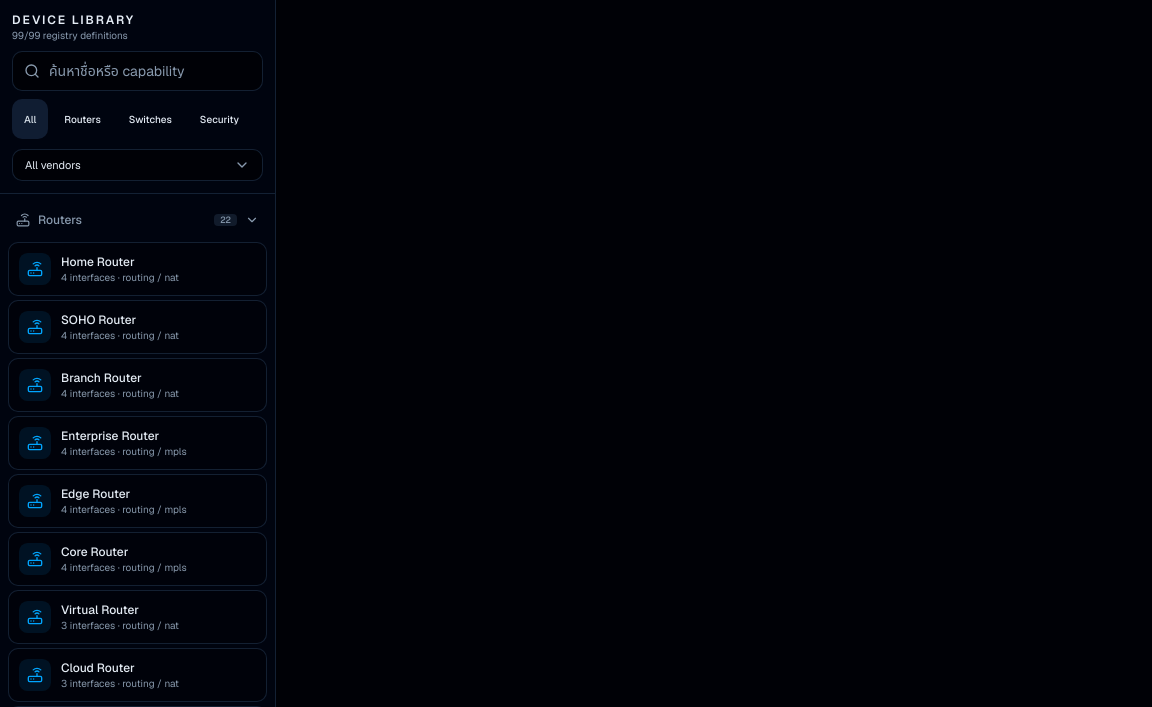
it: workspace components › filters the device library through registry metadata
Type "VXLAN" into the field with placeholder "ค้นหาชื่อหรือ capability".
click(138, 71); type("VXLAN")  # box [12, 51, 263, 91]
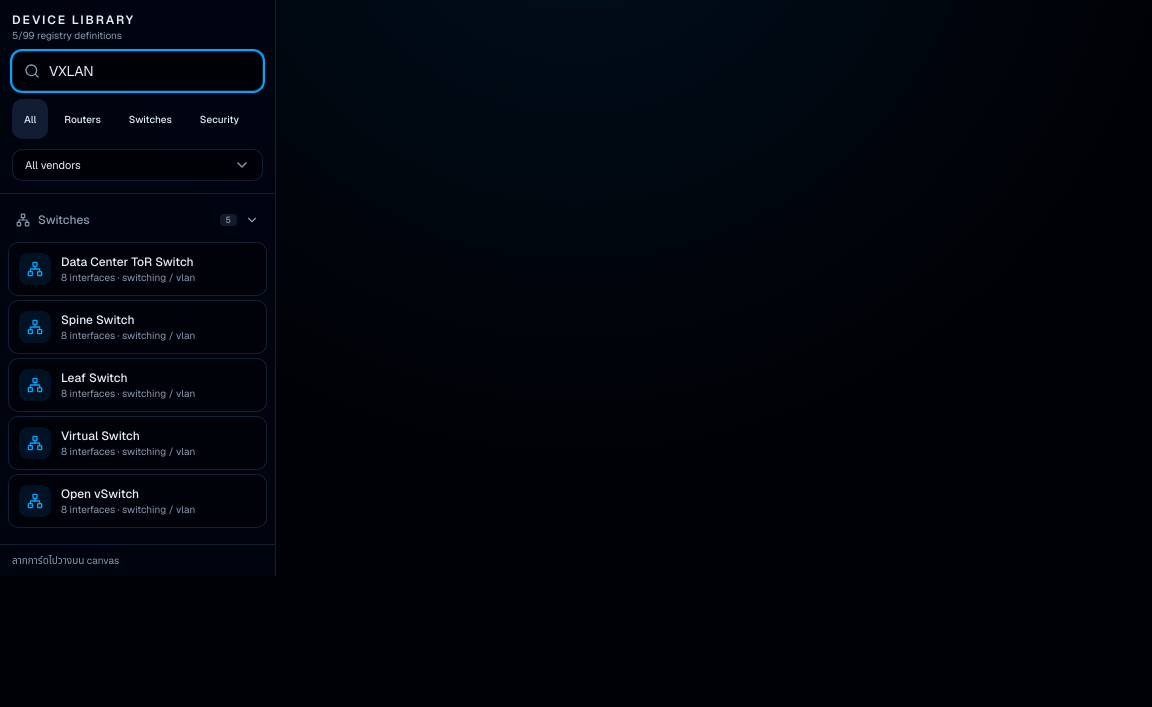
Expected: the text "Leaf Switch" is shown, [61, 370, 128, 386]
Now the button "Branch Router" is gone
